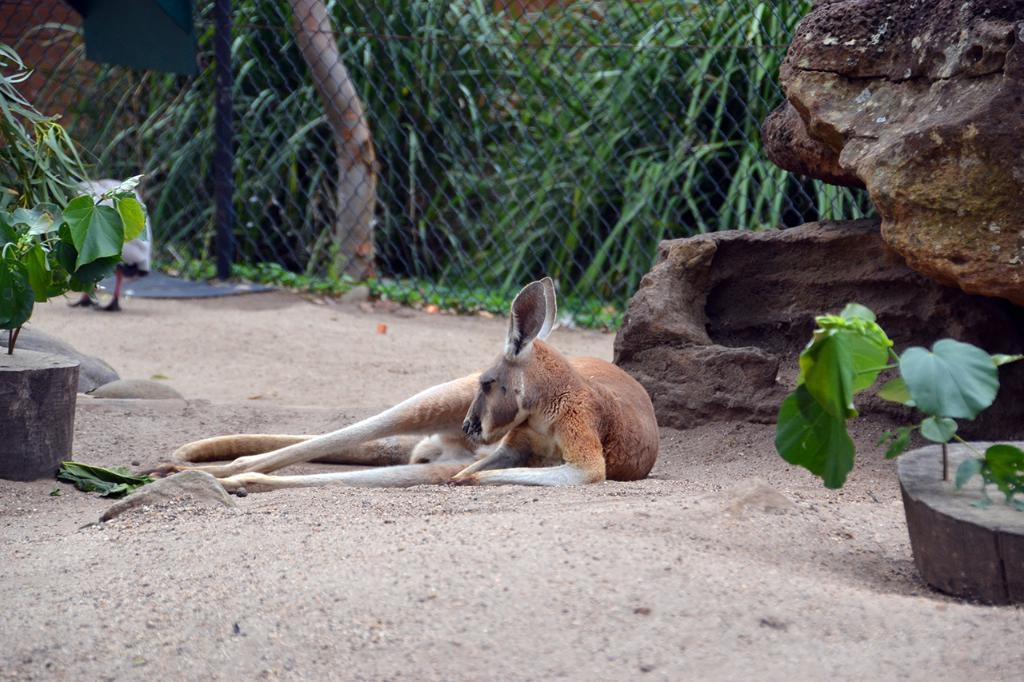kangaroo: (130, 270, 666, 486)
